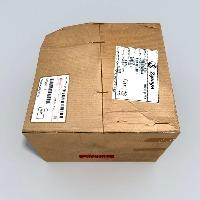undamaged: (16, 20, 183, 166)
